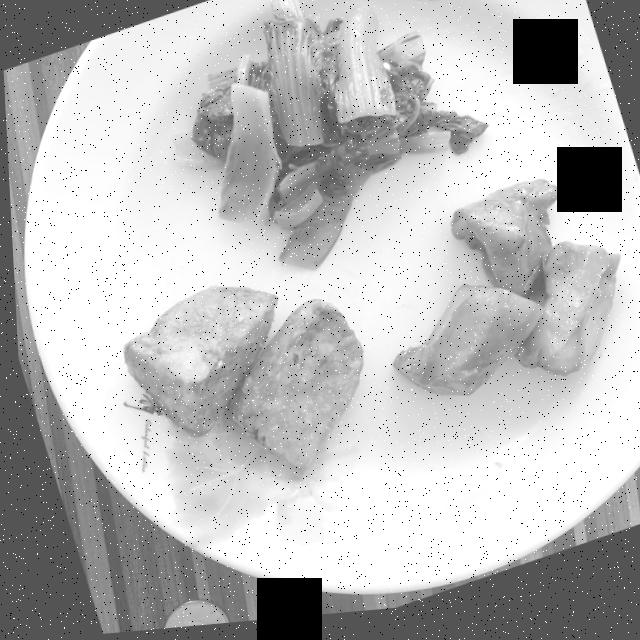coin: (157, 603, 222, 631)
fried potato: (119, 289, 359, 474)
mustard greens: (169, 0, 485, 274)
